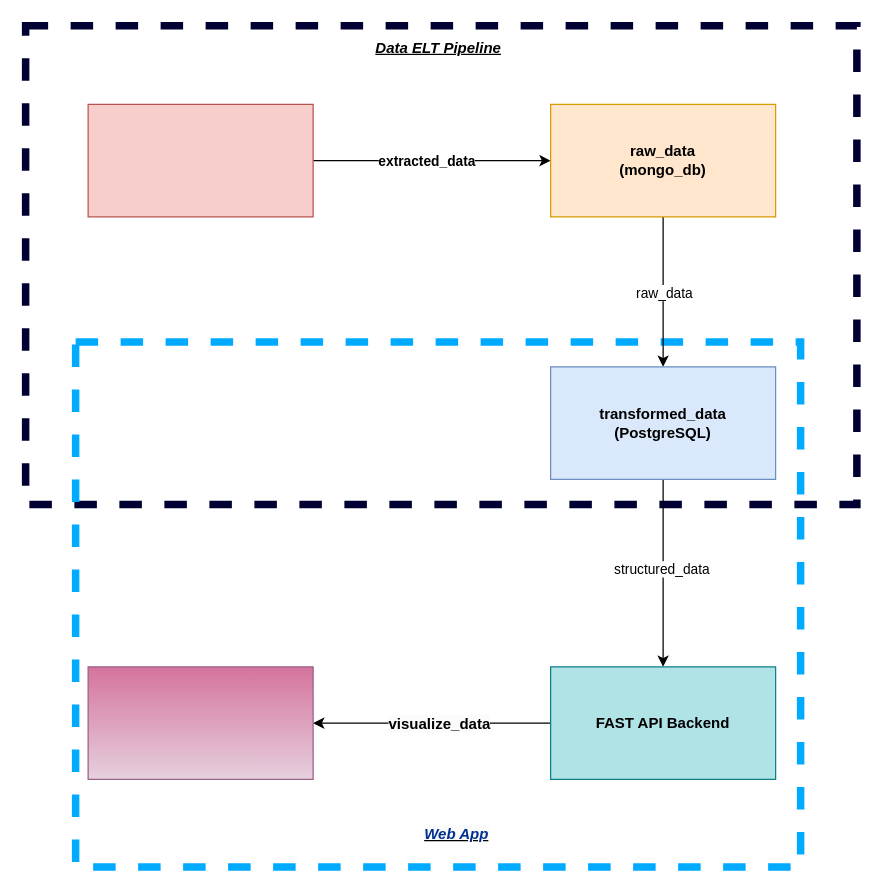
The diagram is 881 pixels wide and 891 high, and some of its shapes have lost their labels. The box of each missing label's shape, as (x1, y1, x2, y2) in pixels:
data_source (realtor.com): (87, 103, 313, 217)
React Web App: (87, 666, 313, 779)
